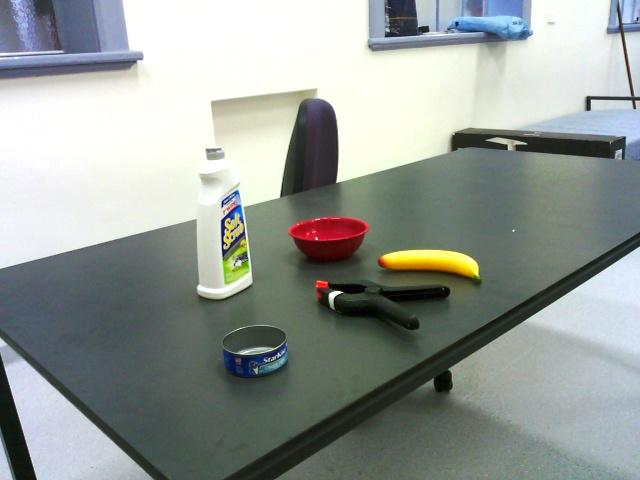007_tuna_fish_can: (220, 323, 287, 373)
011_banana: (379, 244, 482, 282)
021_bleach_cleanser: (192, 138, 254, 298)
024_bowl: (286, 212, 368, 260)
052_extra_large_clamp: (313, 273, 451, 338)
